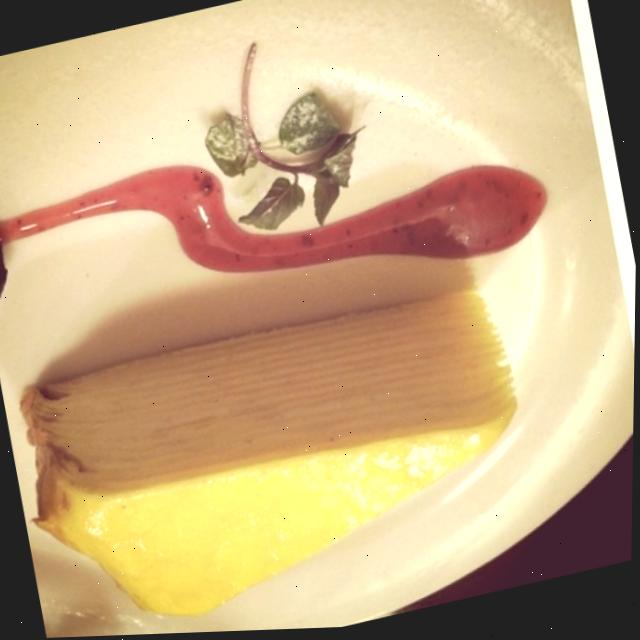熟制海鲜: (0, 12, 415, 513)
